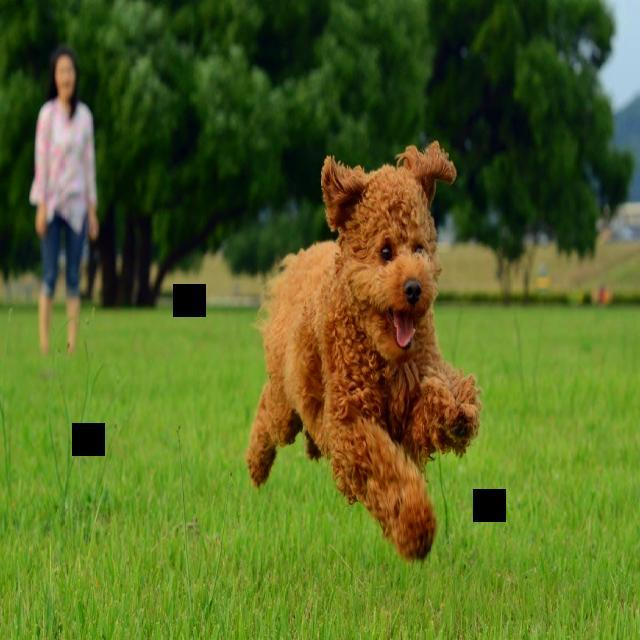adult_dog: (240, 130, 489, 566)
non-dog: (28, 45, 100, 356)
